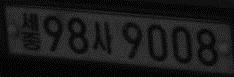0: (146, 22, 169, 62), (171, 25, 193, 64)
8: (66, 16, 89, 55), (196, 27, 218, 66)
9: (121, 21, 144, 59), (42, 14, 64, 51)
사: (91, 20, 114, 54)
세종_V: (19, 12, 41, 51)
